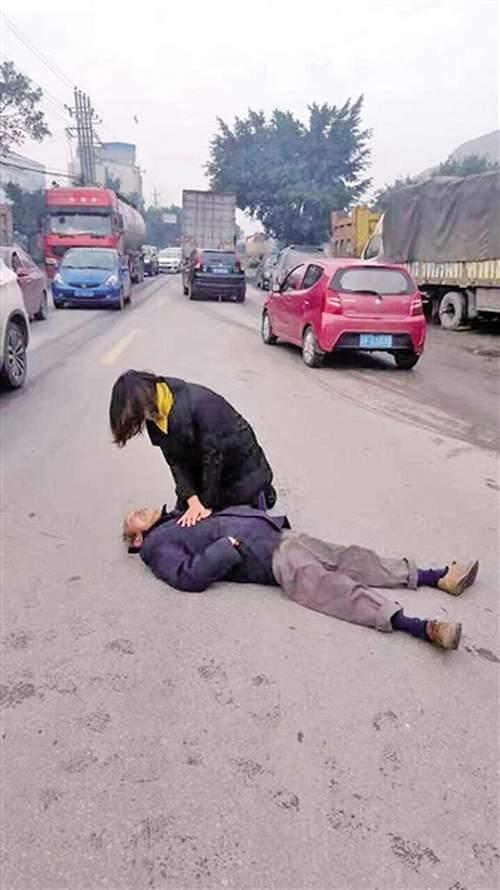bending: (91, 355, 295, 535)
down: (109, 491, 484, 669)
